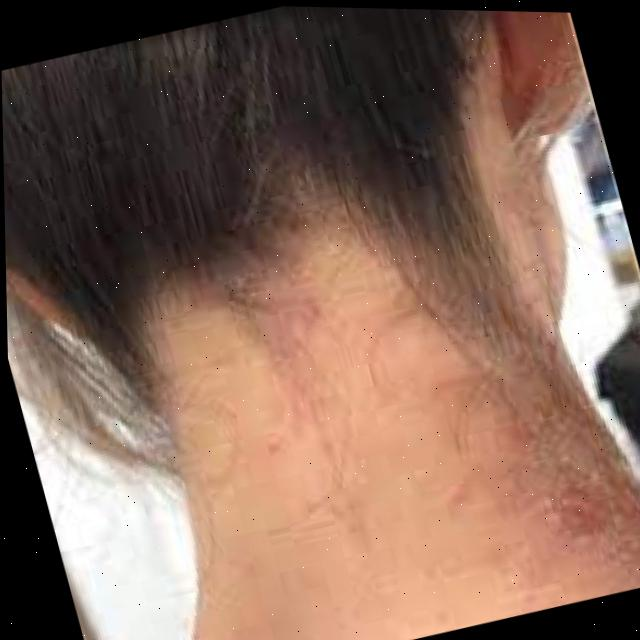Eczema: (490, 373, 640, 604), (237, 284, 344, 409)
